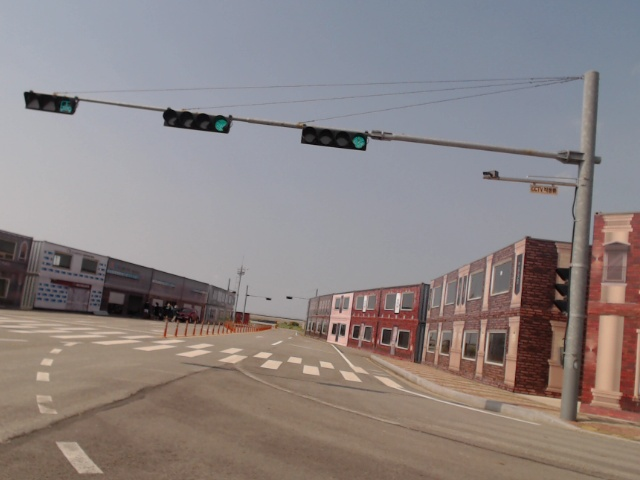straight_green_4: (162, 109, 231, 136), (302, 128, 366, 152)
